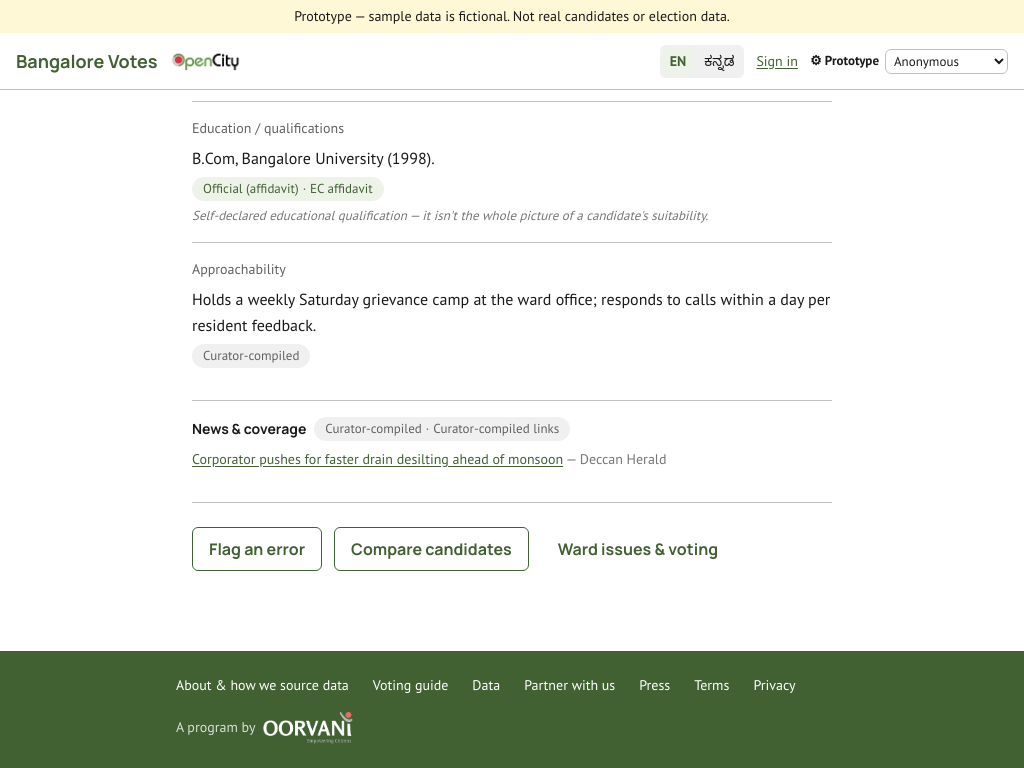
anonymous click on Flag an error shows the login modal first (resume-in-place gating)
(page scrolled)
Click the button "Flag an error".
click(257, 549)  # box [192,527,322,571]
(page scrolled)
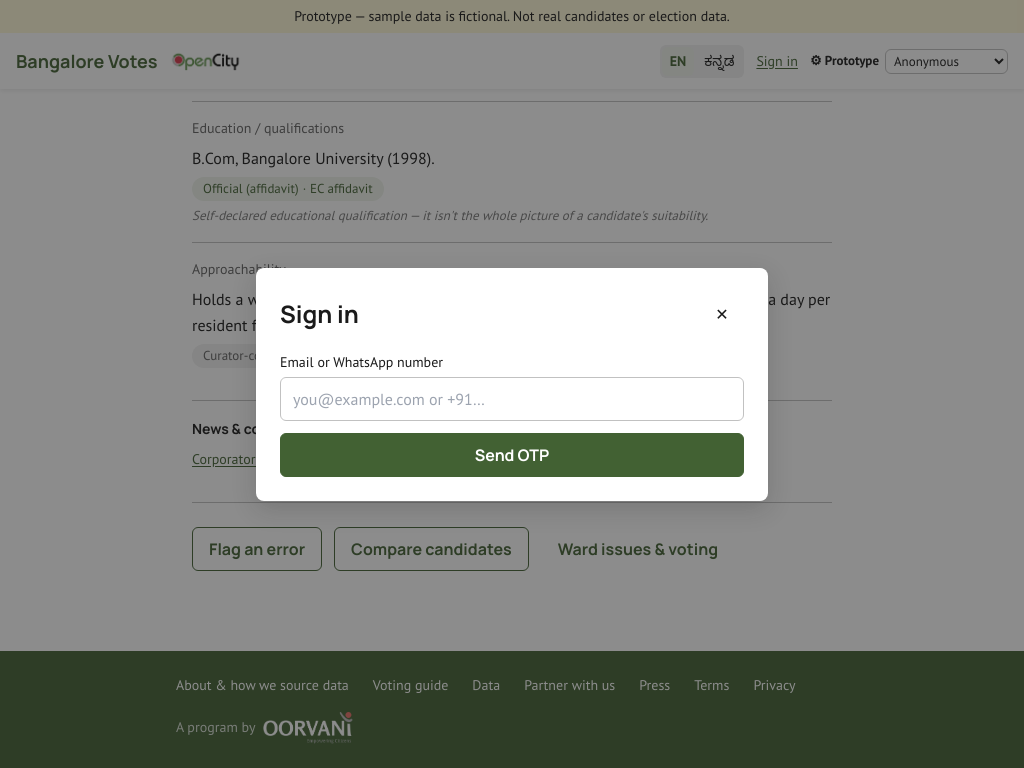
Expected: the dialog "Sign in ✕ Email or WhatsApp number Send OTP" is shown, [256,268,768,500]
